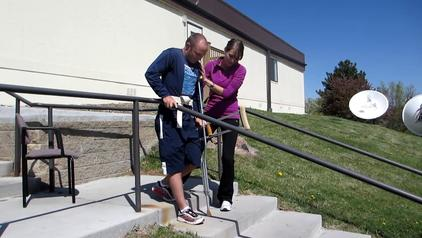stay: (147, 92, 210, 217)
